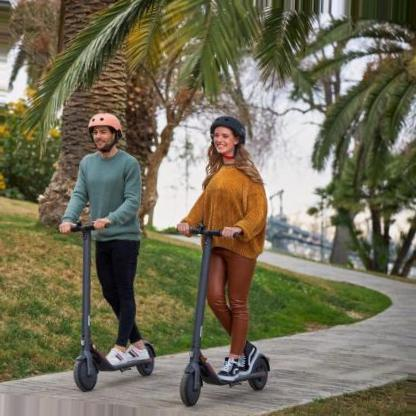scooter: (175, 223, 271, 405), (58, 219, 156, 394)
with helmet: (88, 111, 123, 154), (210, 115, 247, 155)
